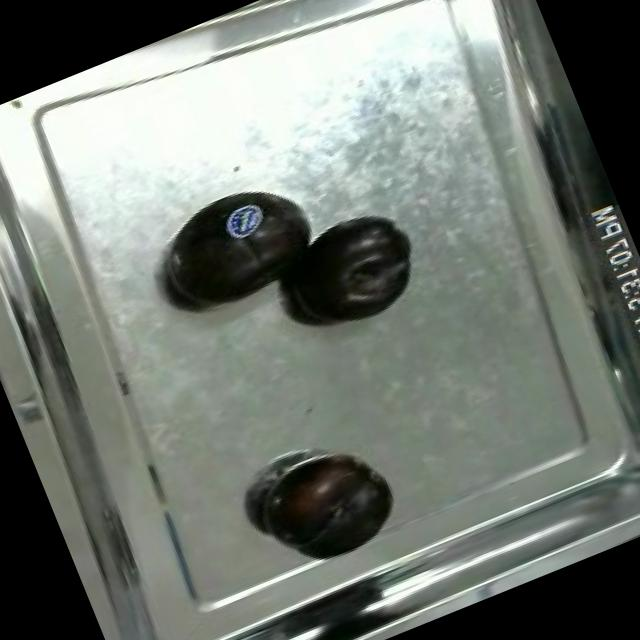Fruit: (141, 160, 338, 333), (264, 194, 437, 350), (245, 434, 410, 580)
